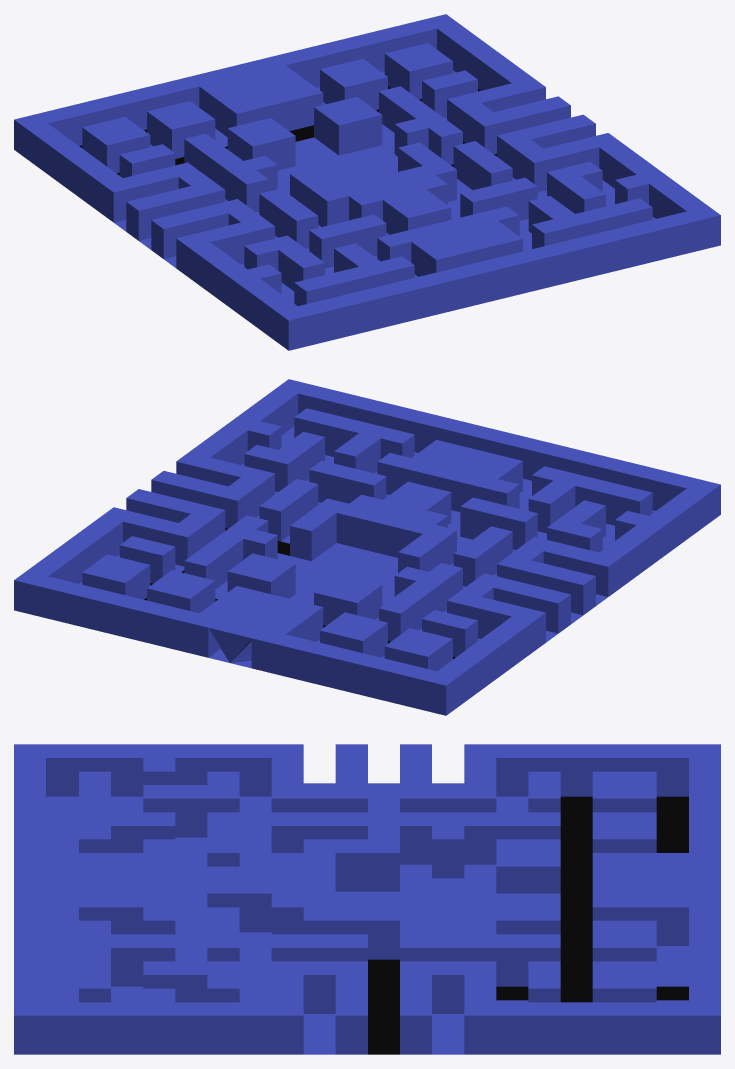
The model's file is stage_2.fbx.
3 renders of one model, top to bottom at view 1: azimuth 30°, elevation 25°; view 2: azimuth 150°, elevation 25°; view 3: azimuth 270°, elevation 25°, orthographic. The views are drawn at different scales.
Visible parts, largest first — view 1: pPlane1; view 2: pPlane1; view 3: pPlane1.
Part boxes in pixels (box(x1,y1,x2,y2)): pPlane1: box(14, 14, 720, 350); pPlane1: box(14, 379, 720, 715); pPlane1: box(14, 744, 720, 1054).
Size of the model in its own units: 30 by 2 by 33.04.
